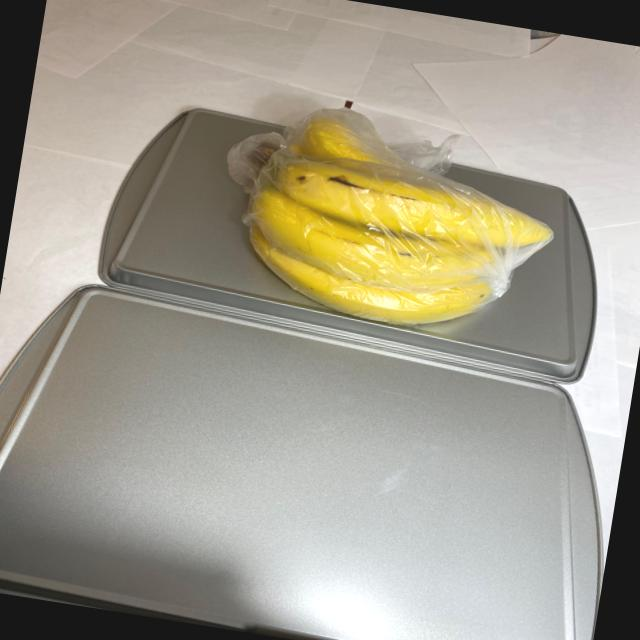banana: (227, 80, 576, 348)
